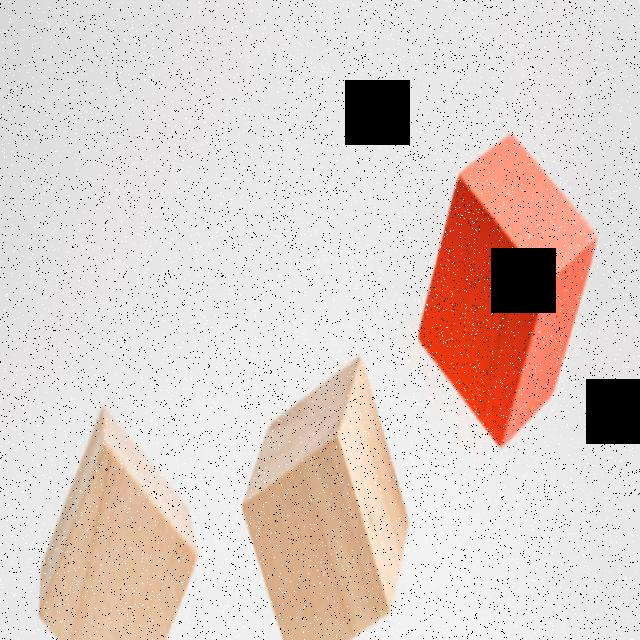red cube: (415, 132, 598, 452)
